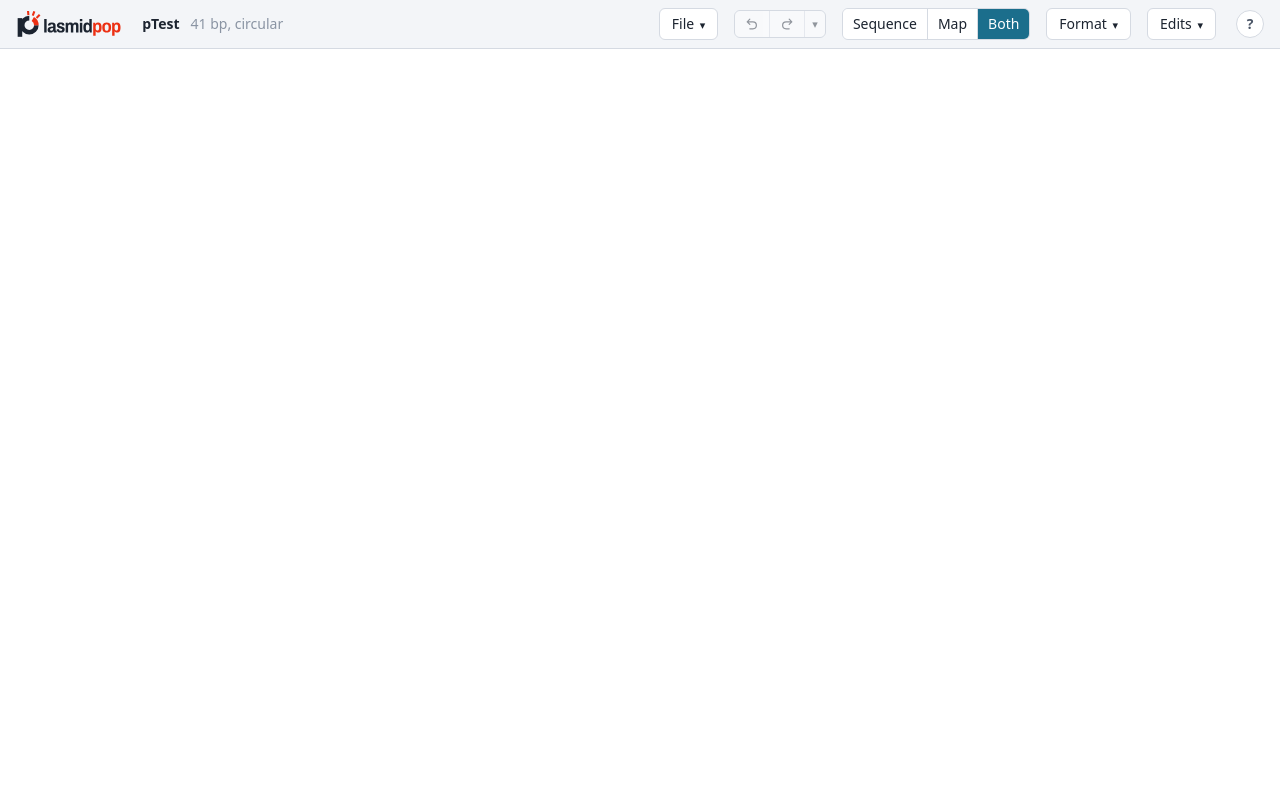
Test: the toolbar on a short window (#296) › moves Complement, Translations and Cut sites into Format and keeps the rest
The width and height of the screenshot is (1280, 800).
Expected: the element "Show" is not shown
Expected: the element named "View" is shown, 842,8 -> 1030,40
What coordinates should you click on to do the following:
click the button "Format ▾"
I would click on:
 (1089, 24)
Its box is 1046,8 -> 1131,40.
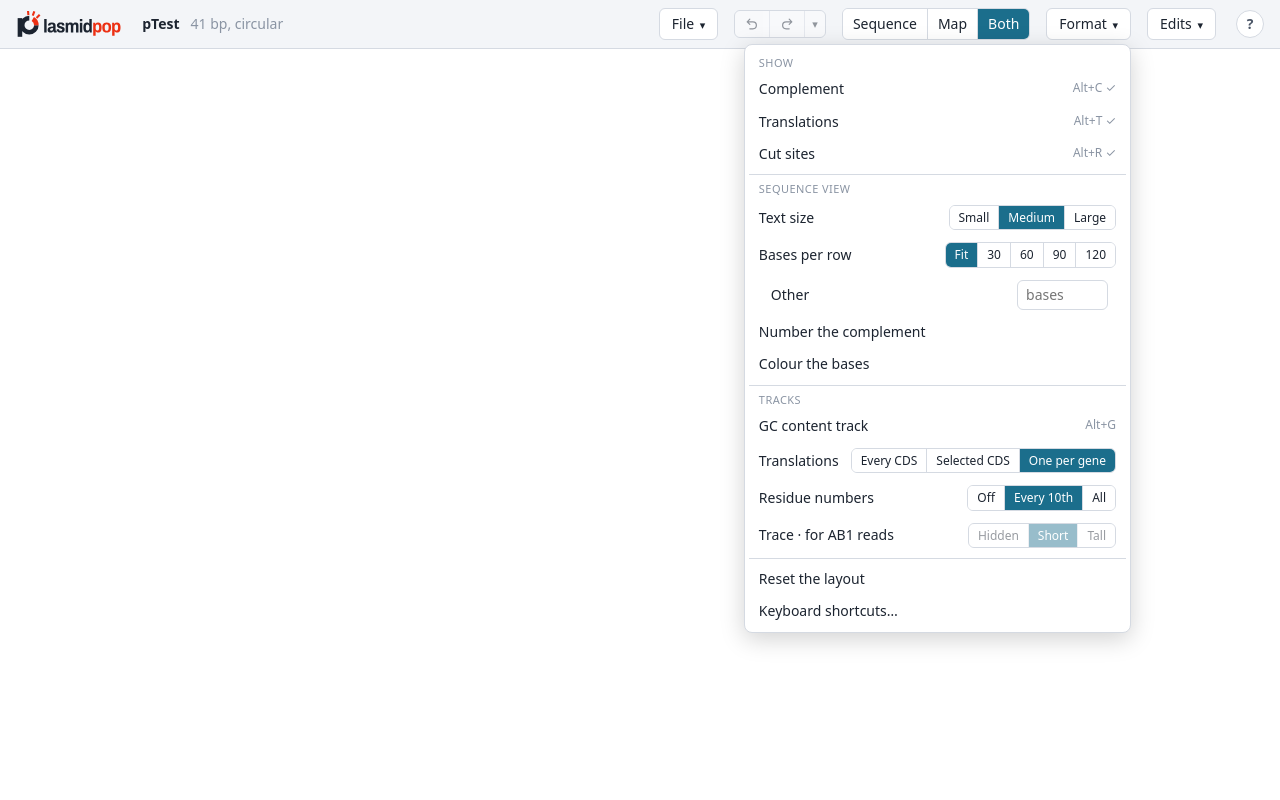
Expected: the menu item "Complement Alt+C ✓" is shown, 749,73 -> 1126,106
Expected: the menu item "Translations Alt+T ✓" is shown, 749,106 -> 1126,138
Expected: the menu item "Cut sites Alt+R ✓" is shown, 749,138 -> 1126,170
